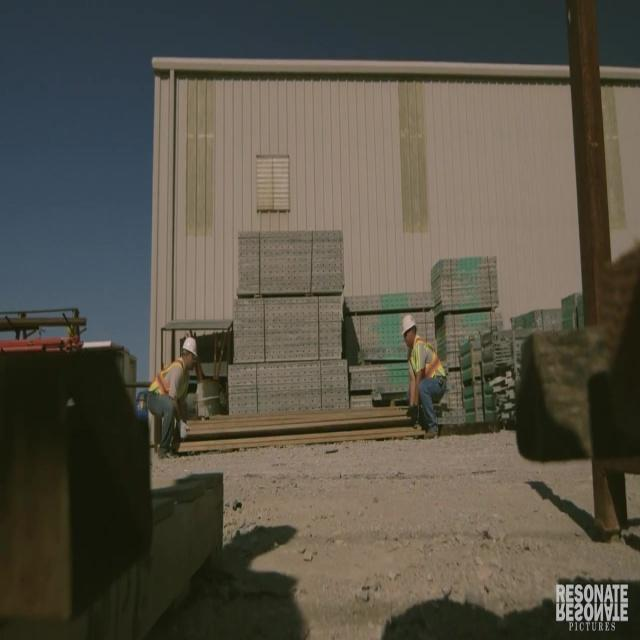helmet: (181, 449, 199, 476), (399, 419, 417, 444)
vest: (410, 445, 449, 503), (147, 479, 188, 524)
